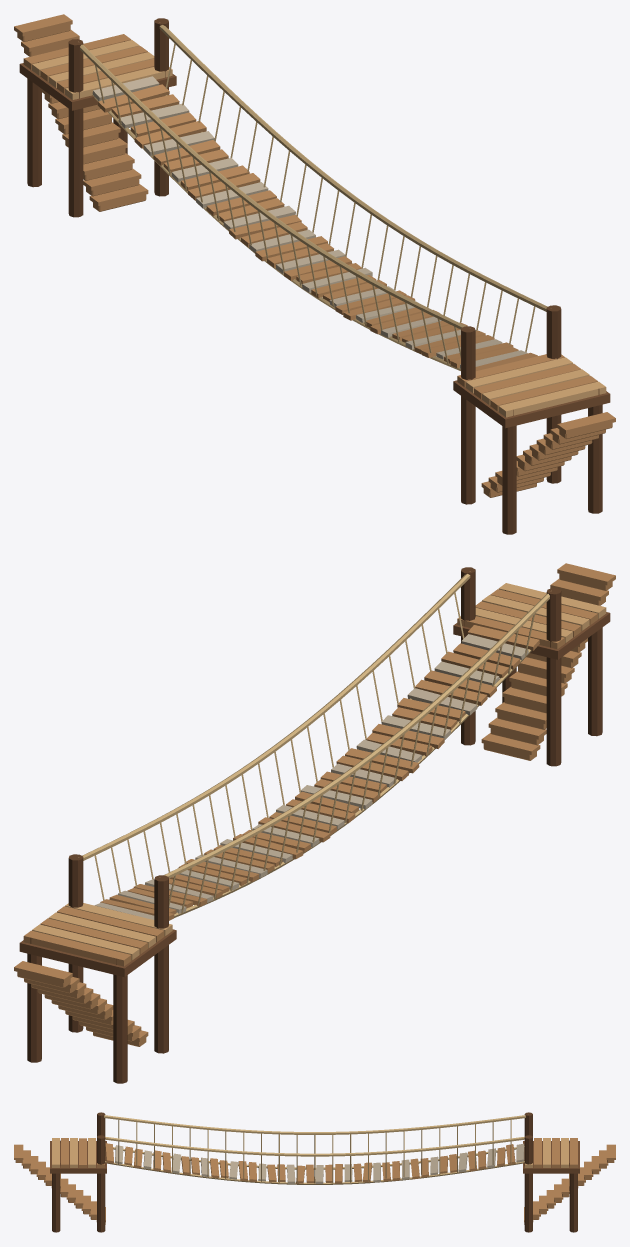
File: RopeBridge.fbx
3 renders of one model, top to bottom at view 1: azimuth 30°, elevation 25°; view 2: azimuth 150°, elevation 25°; view 3: azimuth 270°, elevation 25°, orthographic. The views are drawn at different scales.
Parts seen in each view (by area): view 1: RopeBridge_Plank, RopeBridge_Rope, RopeBridge_Bark, RopeBridge_Driftwood, RopeBridge_WoodLight, RopeBridge_WoodDark; view 2: RopeBridge_Plank, RopeBridge_Rope, RopeBridge_Bark, RopeBridge_Driftwood, RopeBridge_WoodLight, RopeBridge_WoodDark; view 3: RopeBridge_Plank, RopeBridge_Rope, RopeBridge_Bark, RopeBridge_Driftwood, RopeBridge_WoodLight, RopeBridge_WoodDark.
Part boxes in pixels (x1=…): RopeBridge_Plank: x1=14, y1=14, x2=615, y2=497; RopeBridge_Rope: x1=78, y1=22, x2=551, y2=370; RopeBridge_Bark: x1=27, y1=18, x2=602, y2=534; RopeBridge_Driftwood: x1=92, y1=76, x2=527, y2=369; RopeBridge_WoodLight: x1=32, y1=40, x2=606, y2=417; RopeBridge_WoodDark: x1=19, y1=63, x2=610, y2=428; RopeBridge_Plank: x1=14, y1=563, x2=615, y2=1046; RopeBridge_Rope: x1=78, y1=571, x2=551, y2=917; RopeBridge_Bark: x1=27, y1=567, x2=602, y2=1083; RopeBridge_Driftwood: x1=95, y1=634, x2=528, y2=919; RopeBridge_WoodLight: x1=32, y1=583, x2=606, y2=960; RopeBridge_WoodDark: x1=19, y1=612, x2=610, y2=977; RopeBridge_Plank: x1=14, y1=1138, x2=615, y2=1224; RopeBridge_Rope: x1=104, y1=1115, x2=525, y2=1184; RopeBridge_Bark: x1=52, y1=1112, x2=577, y2=1232; RopeBridge_Driftwood: x1=115, y1=1143, x2=524, y2=1183; RopeBridge_WoodLight: x1=52, y1=1138, x2=568, y2=1167; RopeBridge_WoodDark: x1=50, y1=1141, x2=579, y2=1173.
Bounding box in the file's own units: 8.8 × 13.82 × 80.21.
